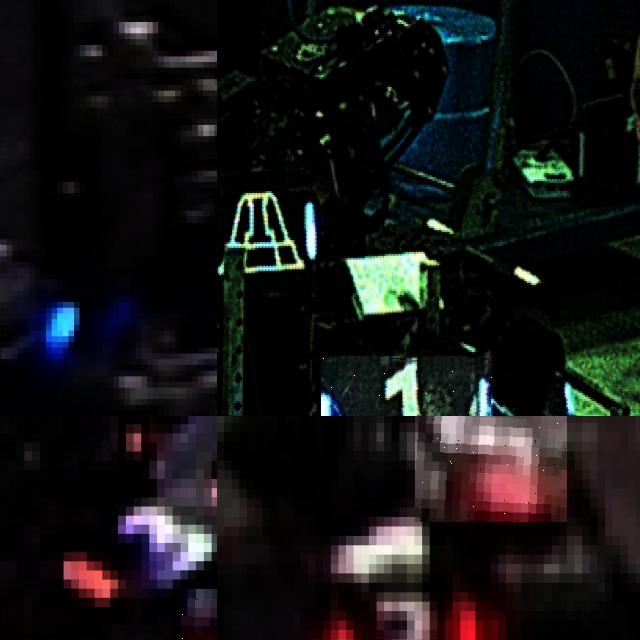B1: (321, 356, 492, 416)
R3: (414, 416, 567, 521), (288, 569, 502, 640)
